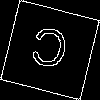C: (25, 25, 72, 79)
